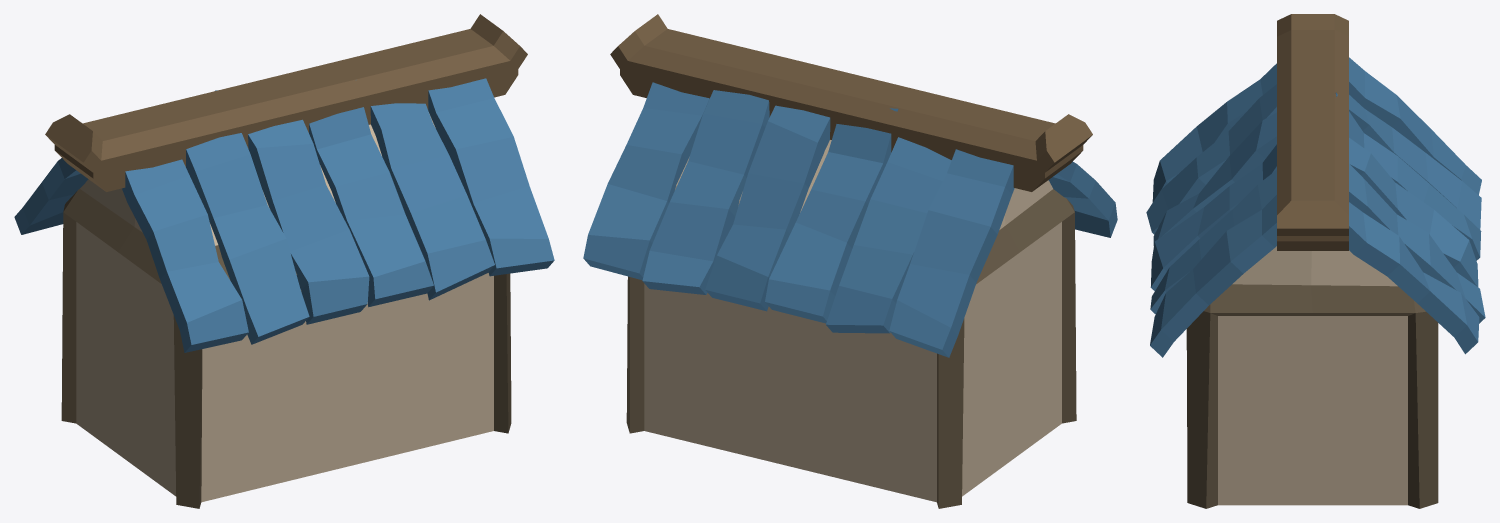
File: house.glb
3 views of the same model, side by side, from view 1: azimuth 30°, elevation 25°; view 2: azimuth 150°, elevation 25°; view 3: azimuth 270°, elevation 25° (orthographic). The views are drawn at different scales.
Visible parts, largest first — view 1: Cube; view 2: Cube; view 3: Cube.
Boxes of the visible parts, x1,y1,x2,y2 form: Cube: (14, 14, 554, 508); Cube: (583, 14, 1117, 508); Cube: (1146, 14, 1485, 508).
Bounding box in the file's own units: 4.2 × 3.16 × 2.98.
